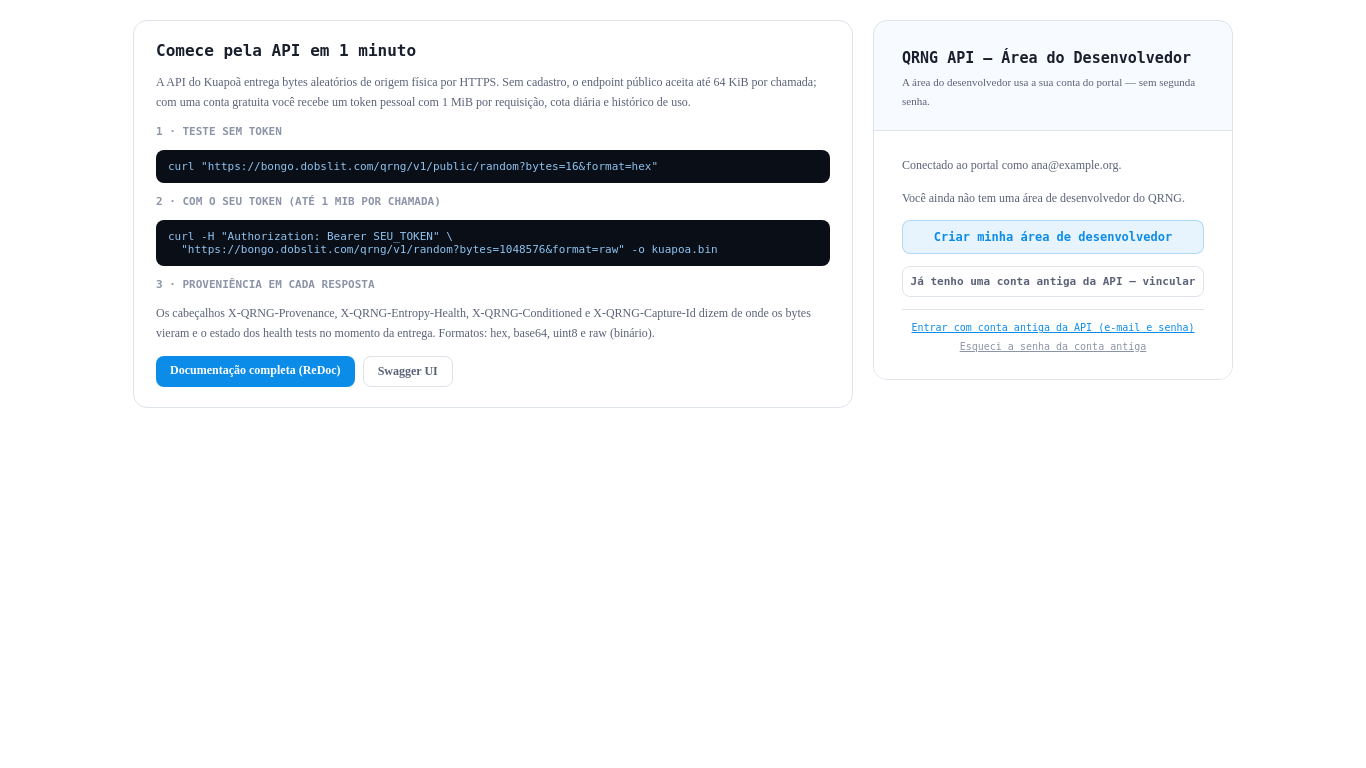
Test: DeveloperPage — modo portal (padrão) › vincular: 409 ACCOUNT_ALREADY_LINKED mostra texto explícito e apaga as senhas dos campos
This screenshot has width=1366, height=768.
Click the button "Já tenho uma conta antiga da API — vincular" at {"x": 1053, "y": 282}, box [902,266,1204,297]
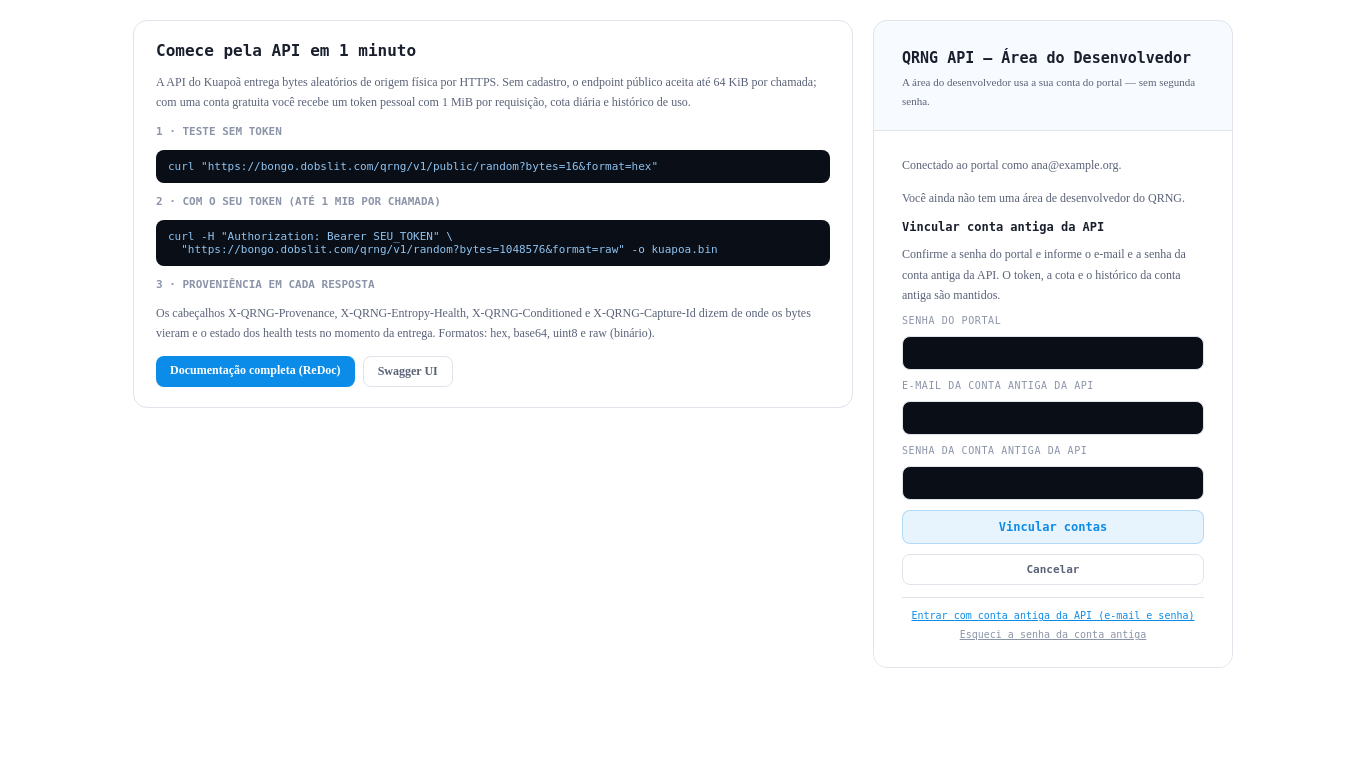
Type "senha-do-portal-123" into the password field labelled "Senha do portal" at {"x": 1053, "y": 353}, box [902,336,1204,370]
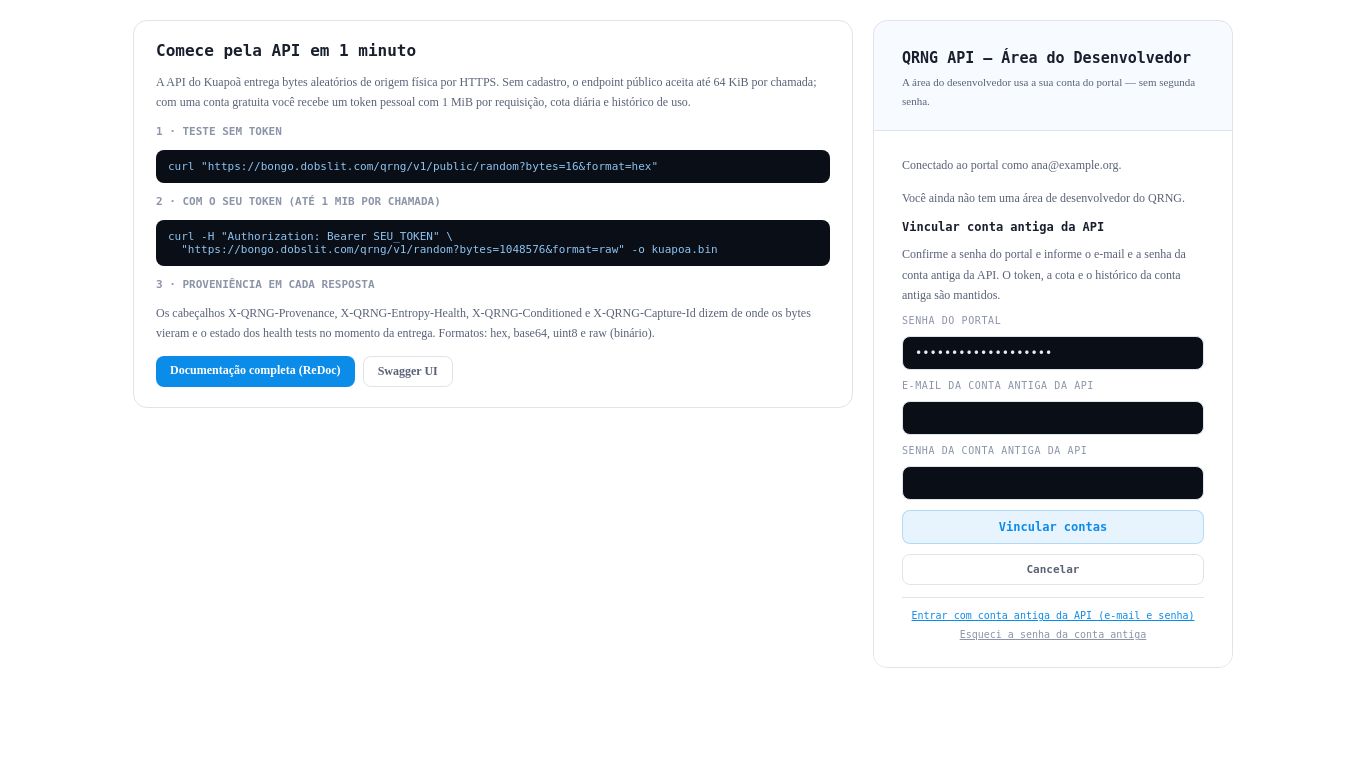
Type "old@example.org" into the field labelled "E-mail da conta antiga da API" at {"x": 1053, "y": 418}, box [902,401,1204,435]
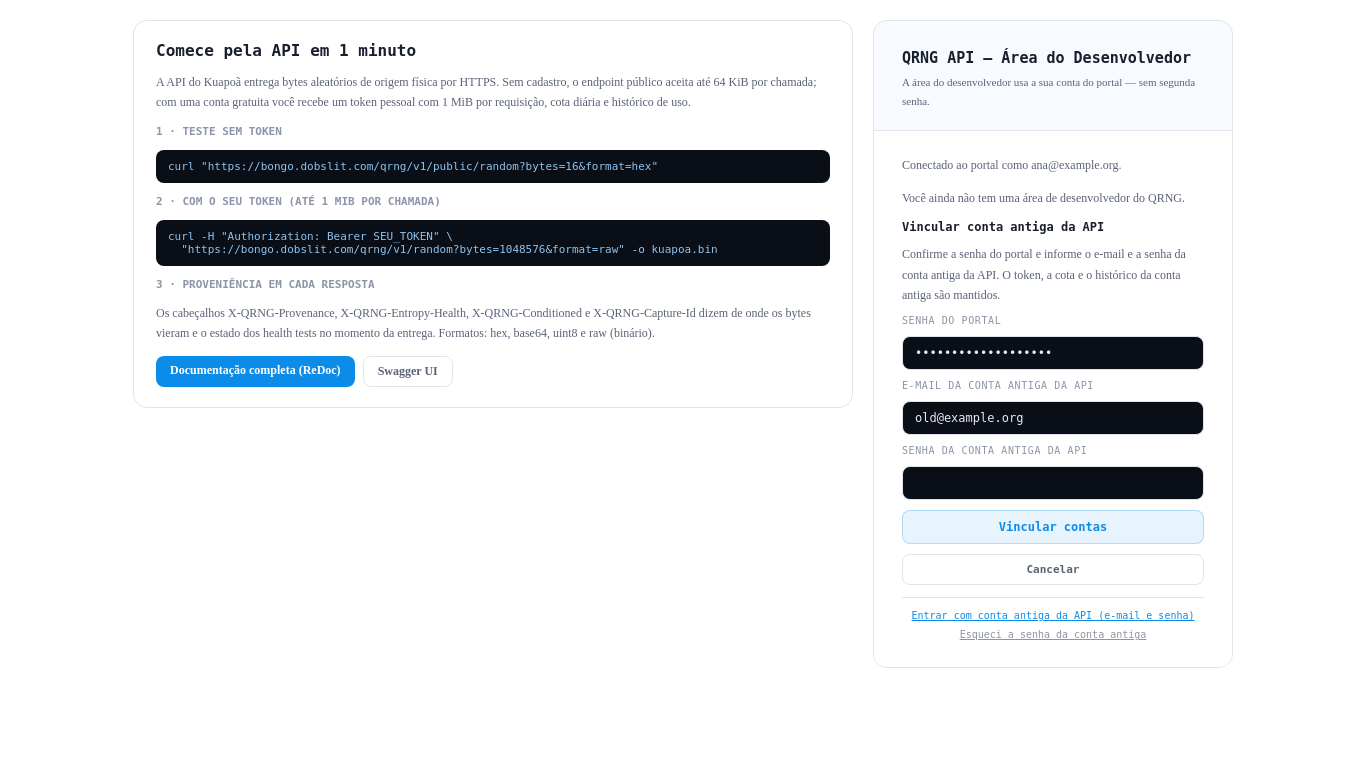
Type "senha-da-conta-antiga-456" into the password field labelled "Senha da conta antiga da API" at {"x": 1053, "y": 483}, box [902,466,1204,500]
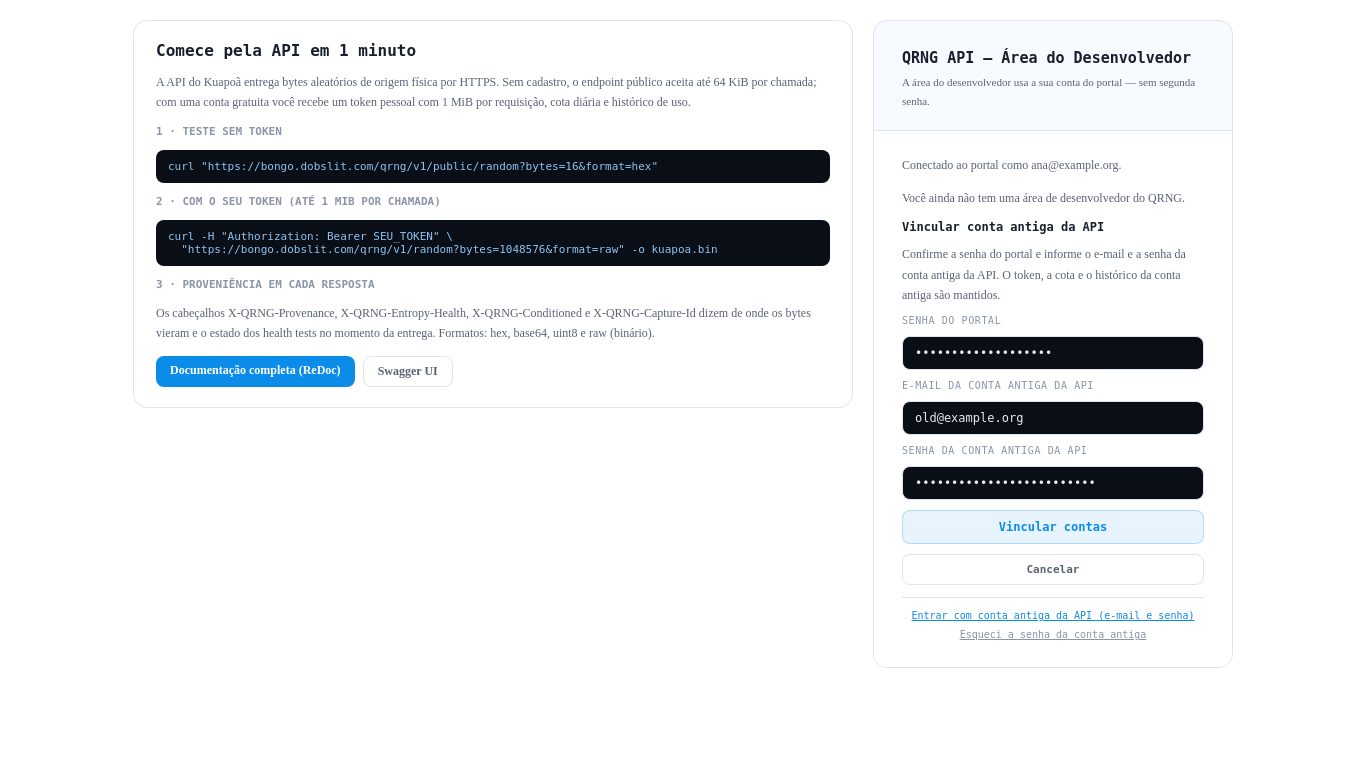
Click the button "Vincular contas" at {"x": 1053, "y": 527}, box [902,510,1204,544]
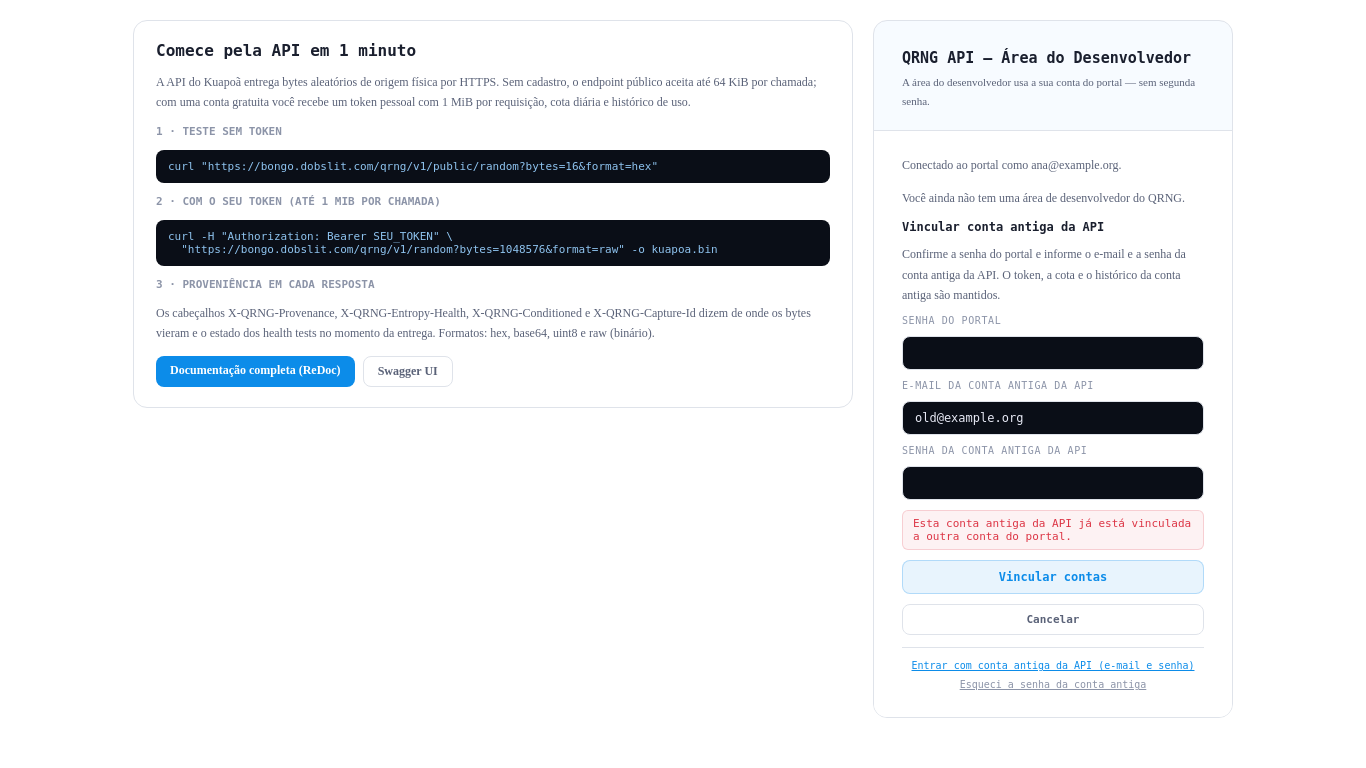
Now the text "Esta conta antiga da API já está vinculada a outra conta do portal." is shown, box [913,517,1193,543]
Now the password field labelled "Senha do portal" is empty, box [902,336,1204,370]
Now the password field labelled "Senha da conta antiga da API" is empty, box [902,466,1204,500]
